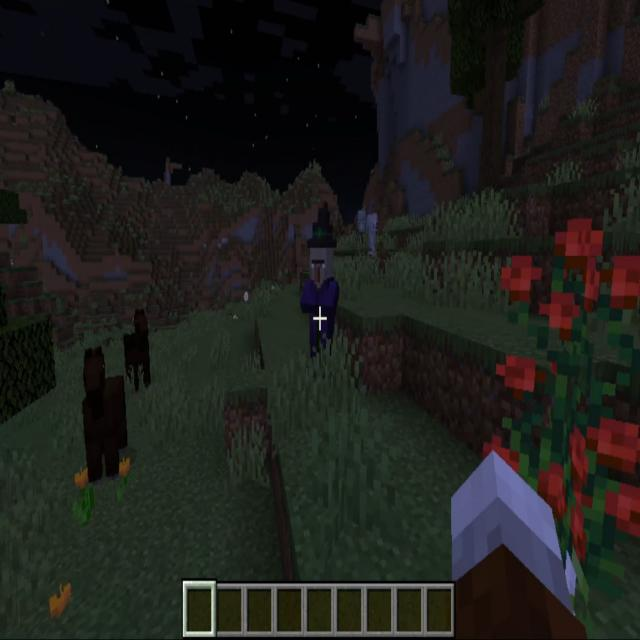Horse: (76, 348, 130, 478), (122, 313, 156, 395)
Skeleton: (367, 210, 379, 268), (355, 206, 369, 250)
Witch: (301, 208, 340, 359)
